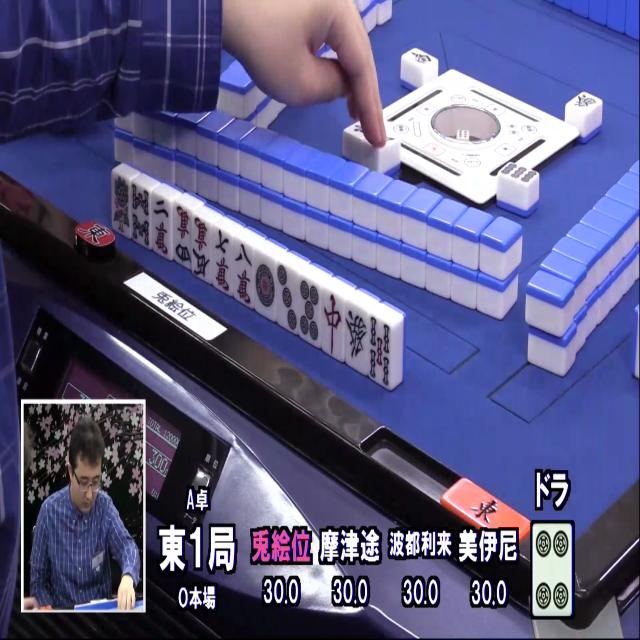fa: (344, 307, 368, 371)
m2: (149, 194, 171, 257)
m4: (171, 206, 193, 270)
m5: (190, 216, 211, 281)
m7: (210, 228, 232, 294)
m8: (233, 242, 257, 309)
s1: (111, 174, 130, 237)
s5: (367, 317, 398, 391)
s8: (129, 184, 151, 248)
t1: (255, 257, 279, 320)
t3: (275, 266, 298, 334)
t4: (528, 523, 574, 618)
t5: (298, 278, 322, 346)
zhong: (320, 291, 344, 358)
